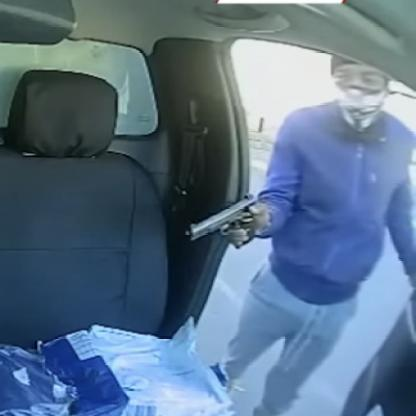criminal: (183, 54, 416, 416)
weapon: (183, 192, 263, 250)
